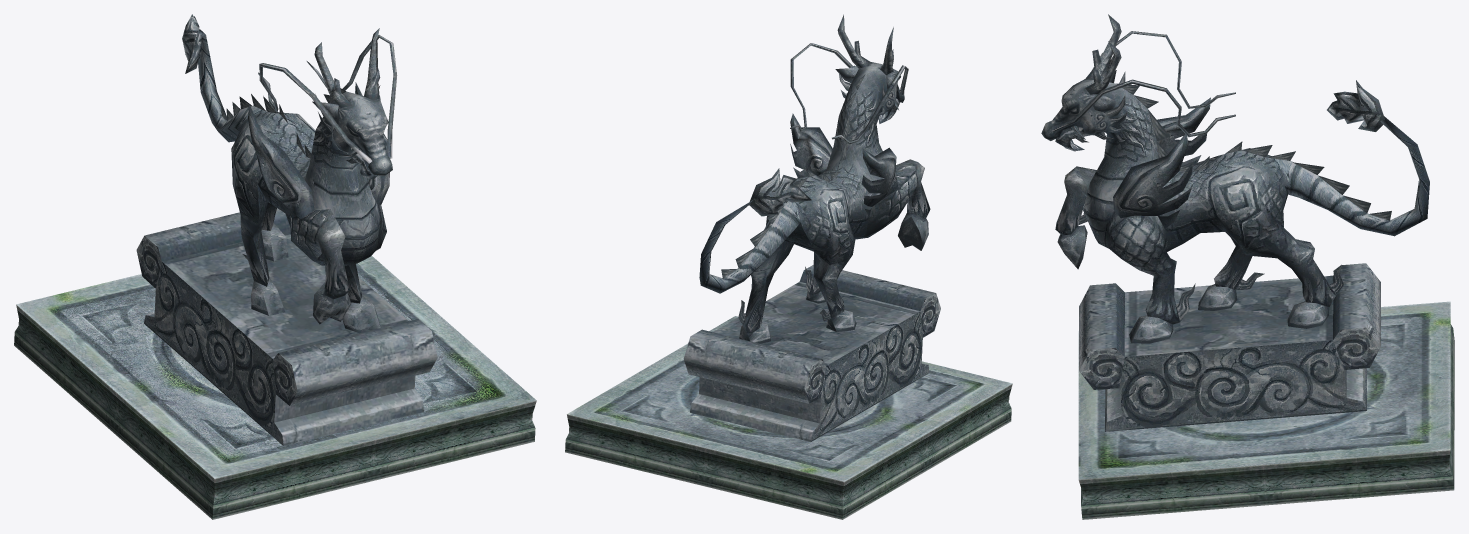
File: ShiXiang04.FBX
The picture shows the model from 3 angles, left to right: view 1: azimuth 30°, elevation 25°; view 2: azimuth 150°, elevation 25°; view 3: azimuth 270°, elevation 25°; orthographic projection. The views are drawn at different scales.
Visible parts, largest first — view 1: DrawCall_0075, 对象01, 对象02; view 2: DrawCall_0075, 对象01, 对象02; view 3: DrawCall_0075, 对象01, 对象02.
Part boxes in pixels (x1=…): DrawCall_0075: x1=136, y1=14, x2=437, y2=445; 对象01: x1=16, y1=255, x2=536, y2=478; 对象02: x1=14, y1=304, x2=536, y2=519; DrawCall_0075: x1=683, y1=14, x2=940, y2=441; 对象01: x1=567, y1=316, x2=1012, y2=481; 对象02: x1=565, y1=383, x2=1012, y2=519; DrawCall_0075: x1=1041, y1=14, x2=1429, y2=431; 对象01: x1=1078, y1=301, x2=1450, y2=479; 对象02: x1=1078, y1=324, x2=1454, y2=519.
Bounding box in the file's own units: 5.96 × 7.71 × 6.98.
